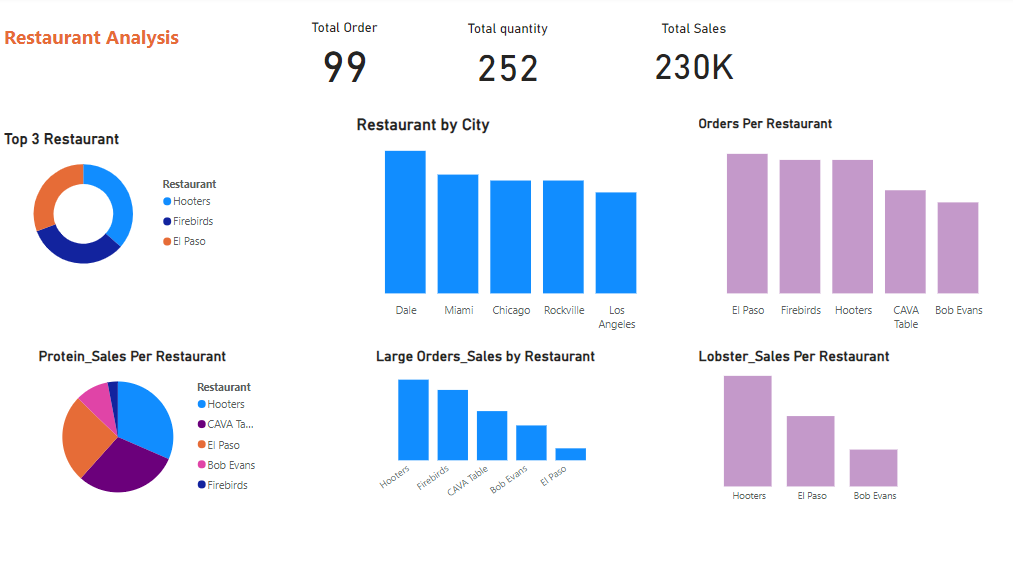

The dashboard page shown, as its layout file describes it:
{"tool":"powerbi","page":{"name":"Page 1","canvas":[1280,720],"ordinal":0},"visuals":[{"type":"columnChart","title":"Restaurant by City","fields":{"Y":["Contact.Number of Restaurant"],"Category":["Market.City"]},"box":[445,151,391,279.7],"z":0},{"type":"columnChart","title":"Orders Per Restaurant","fields":{"Category":["Cust_Account.Restaurant"],"Y":["Contact.Number of Orders"]},"box":[874.2,151,391,279.7],"z":1000},{"type":"textbox","box":[0,30.2,294,71.5],"z":2000},{"type":"card","title":"Total Order","fields":{"Values":["Count(Orders.Orders_Id)"]},"box":[338.5,30.2,190.7,87.4],"z":3000},{"type":"card","title":"Total quantity","fields":{"Values":["Contact.Total Quantity"]},"box":[545.2,31.8,190.7,87.4],"z":4000},{"type":"card","title":"Total Sales","fields":{"Values":["Contact.Total Sales"]},"box":[778.8,31.8,190.7,87.4],"z":5000},{"type":"clusteredColumnChart","title":"Large Orders_Sales by Restaurant","fields":{"Category":["Cust_Account.Restaurant"],"Y":["Sum(Orders.Total Sales for Large Orders)"]},"box":[468.9,445,295.6,205],"z":6000},{"type":"clusteredColumnChart","title":"Lobster_Sales Per Restaurant","fields":{"Category":["Cust_Account.Restaurant"],"Y":["Contact.Total Sales for Small orders"]},"box":[874.2,445,295.6,205],"z":7000},{"type":"pieChart","title":"Protein_Sales Per Restaurant ","fields":{"Category":["Cust_Account.Restaurant"],"Y":["Contact.Protein_Sales Per Restaurant"]},"box":[42.9,445,295.6,205],"z":8000},{"type":"donutChart","title":"Top 3 Restaurant","fields":{"Category":["Cust_Account.Restaurant"],"Y":["Contact.Total Sales"]},"box":[0,170.1,294.8,189],"z":9000}]}

Visuals, with their boxes in screenshot pixels (x1, y1, x2, y2), scaled from the page's 1280x720 canvas onto the 1013x565 screenshot:
"Restaurant by City" columnChart: bbox=(352, 118, 662, 338)
"Orders Per Restaurant" columnChart: bbox=(692, 118, 1001, 338)
textbox: bbox=(0, 24, 233, 80)
"Total Order" card: bbox=(268, 24, 419, 92)
"Total quantity" card: bbox=(431, 25, 582, 94)
"Total Sales" card: bbox=(616, 25, 767, 94)
"Large Orders_Sales by Restaurant" clusteredColumnChart: bbox=(371, 349, 605, 510)
"Lobster_Sales Per Restaurant" clusteredColumnChart: bbox=(692, 349, 926, 510)
"Protein_Sales Per Restaurant " pieChart: bbox=(34, 349, 268, 510)
"Top 3 Restaurant" donutChart: bbox=(0, 133, 233, 282)
